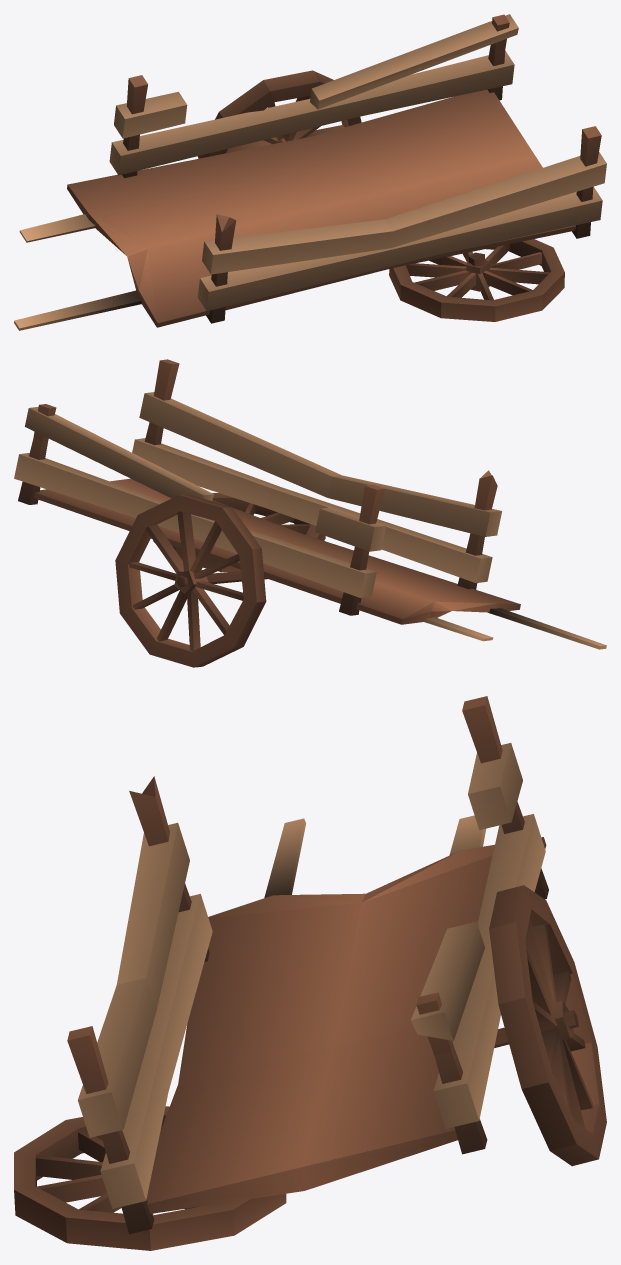
Rendered from Wood_Car.fbx.
3 renders of one model, top to bottom at view 1: azimuth 30°, elevation 25°; view 2: azimuth 150°, elevation 25°; view 3: azimuth 270°, elevation 25°, orthographic. The views are drawn at different scales.
Visible parts, largest first — view 1: Wood_Car; view 2: Wood_Car; view 3: Wood_Car.
Boxes of the visible parts, x1=… form: Wood_Car: x1=14, y1=14, x2=606, y2=330; Wood_Car: x1=14, y1=359, x2=606, y2=667; Wood_Car: x1=14, y1=696, x2=606, y2=1250.
Bounding box in the file's own units: 92.34 × 31.79 × 53.93.
1 material, 1 textured.
